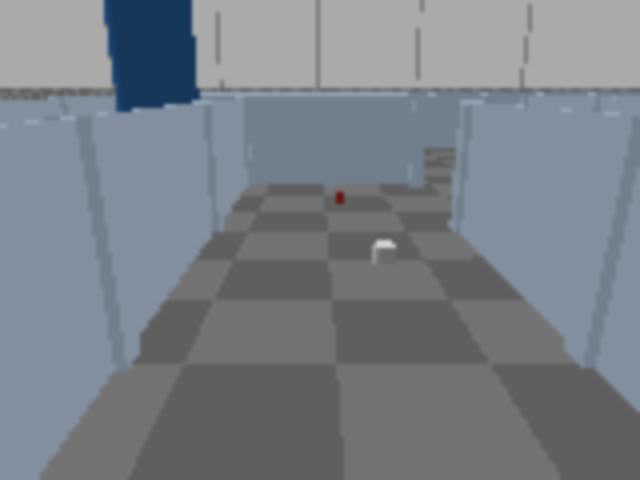puck: (373, 241, 396, 265)
